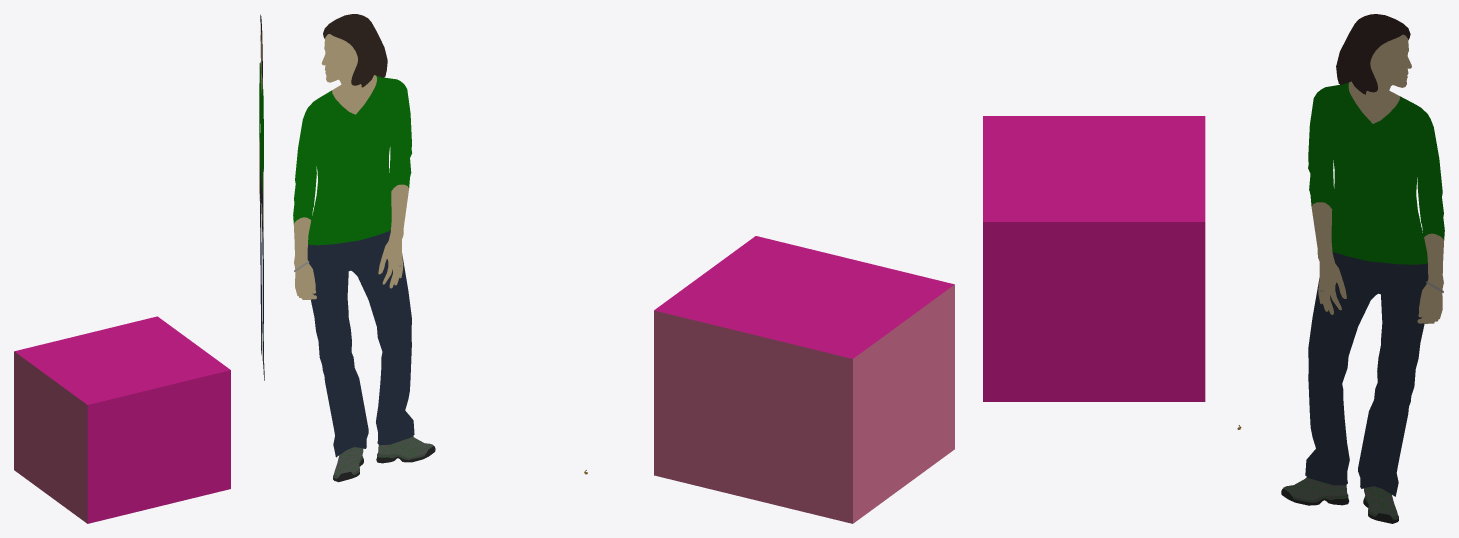
Rendered from Sans titre.dae.
3 renders of one model, left to right at view 1: azimuth 30°, elevation 25°; view 2: azimuth 150°, elevation 25°; view 3: azimuth 270°, elevation 25°, orthographic. The views are drawn at different scales.
Visible parts, largest first — view 1: a_test_collada (×2), Susan (×2); view 2: a_test_collada (×2), Susan (×5); view 3: a_test_collada, Susan (×9).
Part boxes in pixels (x1,y1,x2,y2): a_test_collada (×2): (14, 316, 230, 523); Susan (×2): (259, 62, 263, 356); a_test_collada (×2): (654, 236, 954, 523); Susan (×5): (293, 14, 414, 457); a_test_collada: (983, 116, 1205, 401); Susan (×9): (1283, 14, 1444, 516).
Size of the model in its own units: 67.42 by 54.96 by 66.6.
